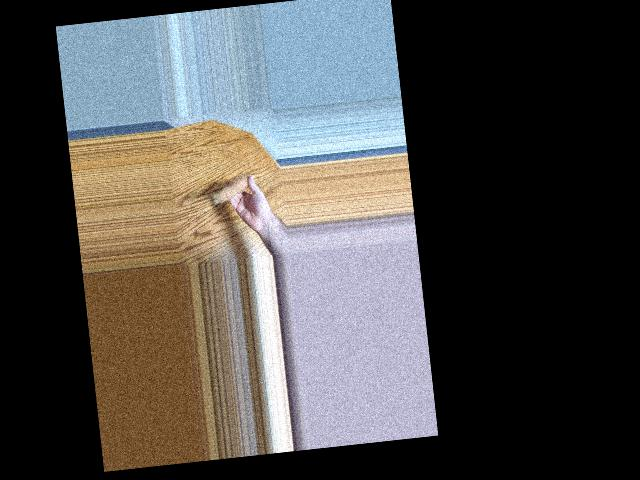sweet_potato: (210, 174, 255, 206)
